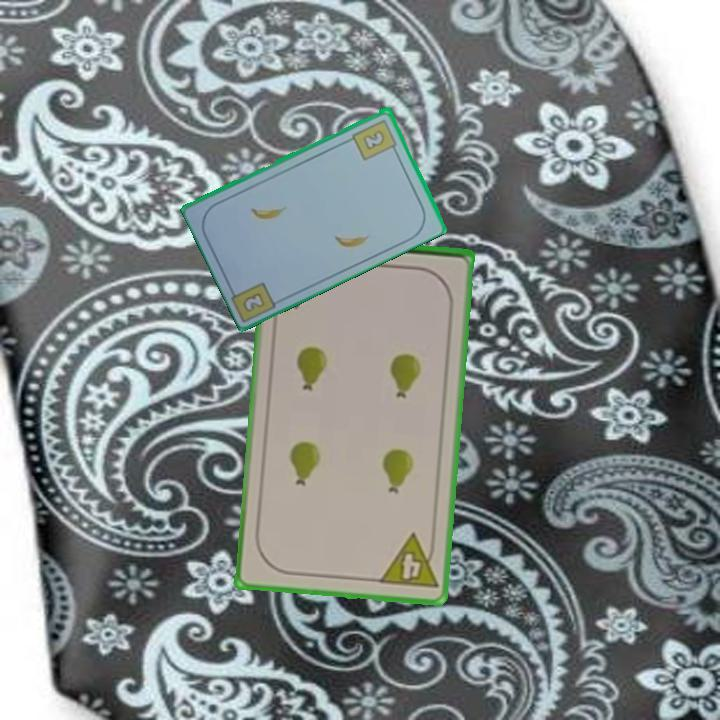2b: (349, 115, 400, 163), (239, 288, 268, 315)
4p: (375, 530, 441, 592)
